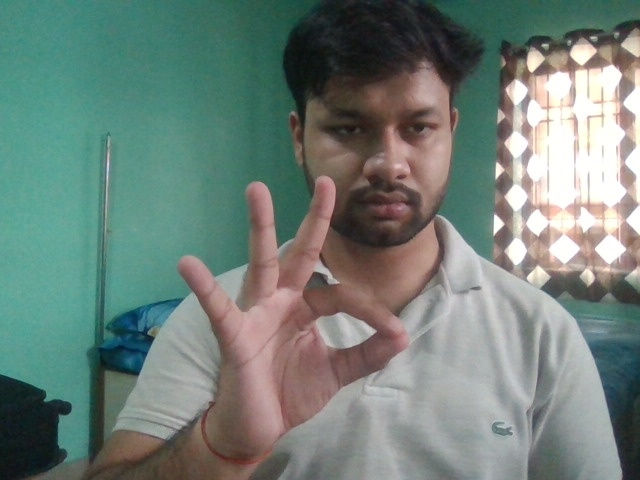Ok: (175, 172, 413, 448)
